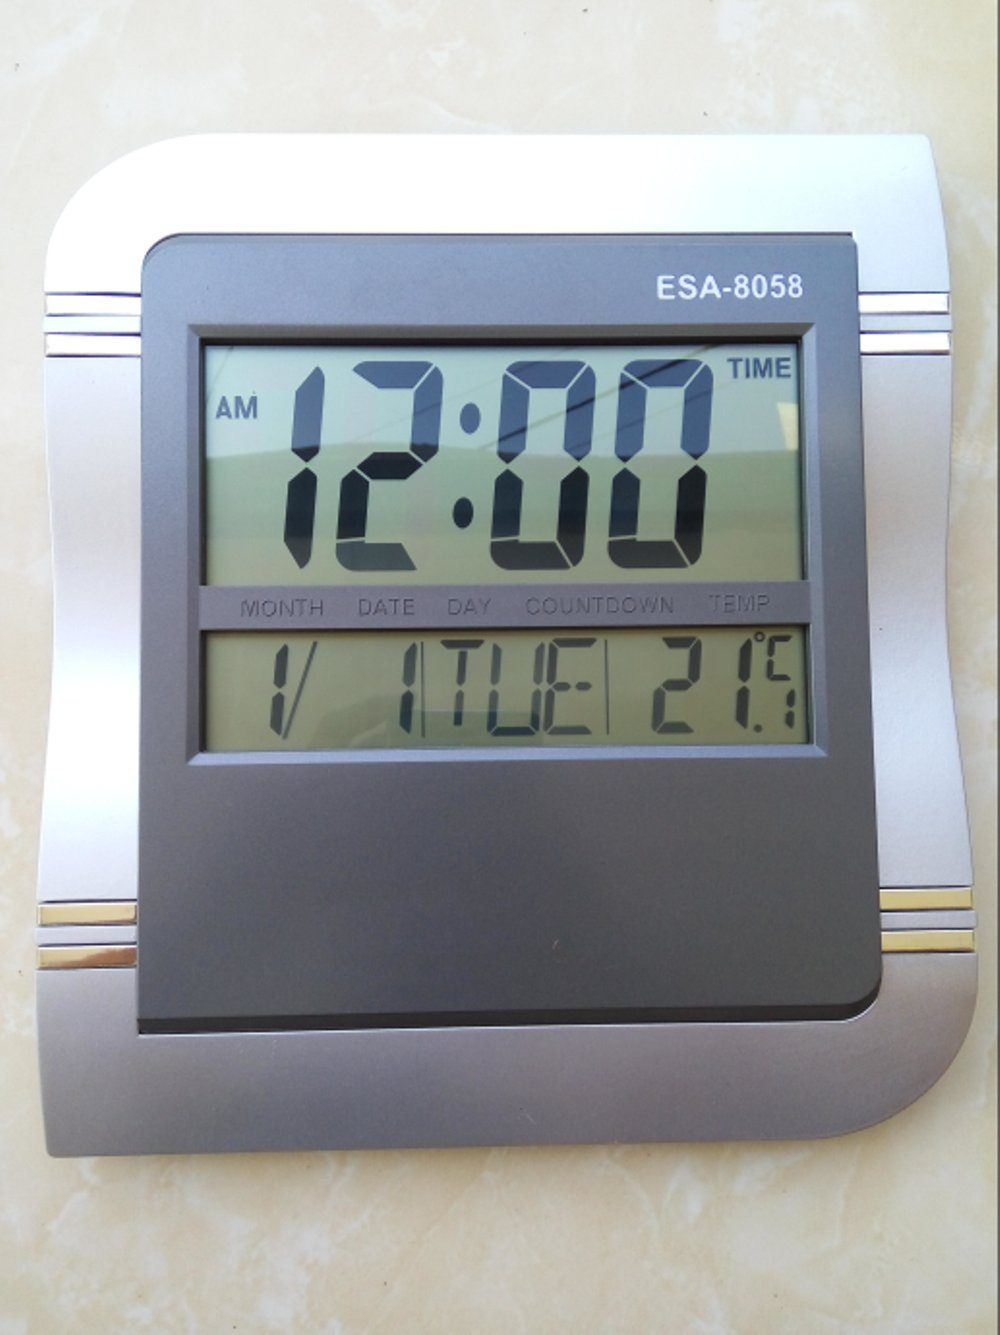jam dinding: (22, 152, 976, 1227)
